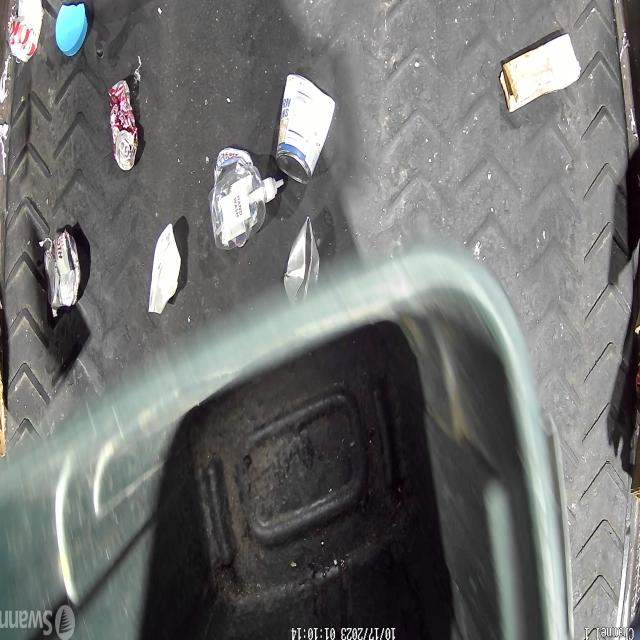can: (276, 74, 336, 184), (284, 217, 319, 306), (106, 78, 138, 170), (44, 228, 80, 308), (5, 0, 43, 65)
